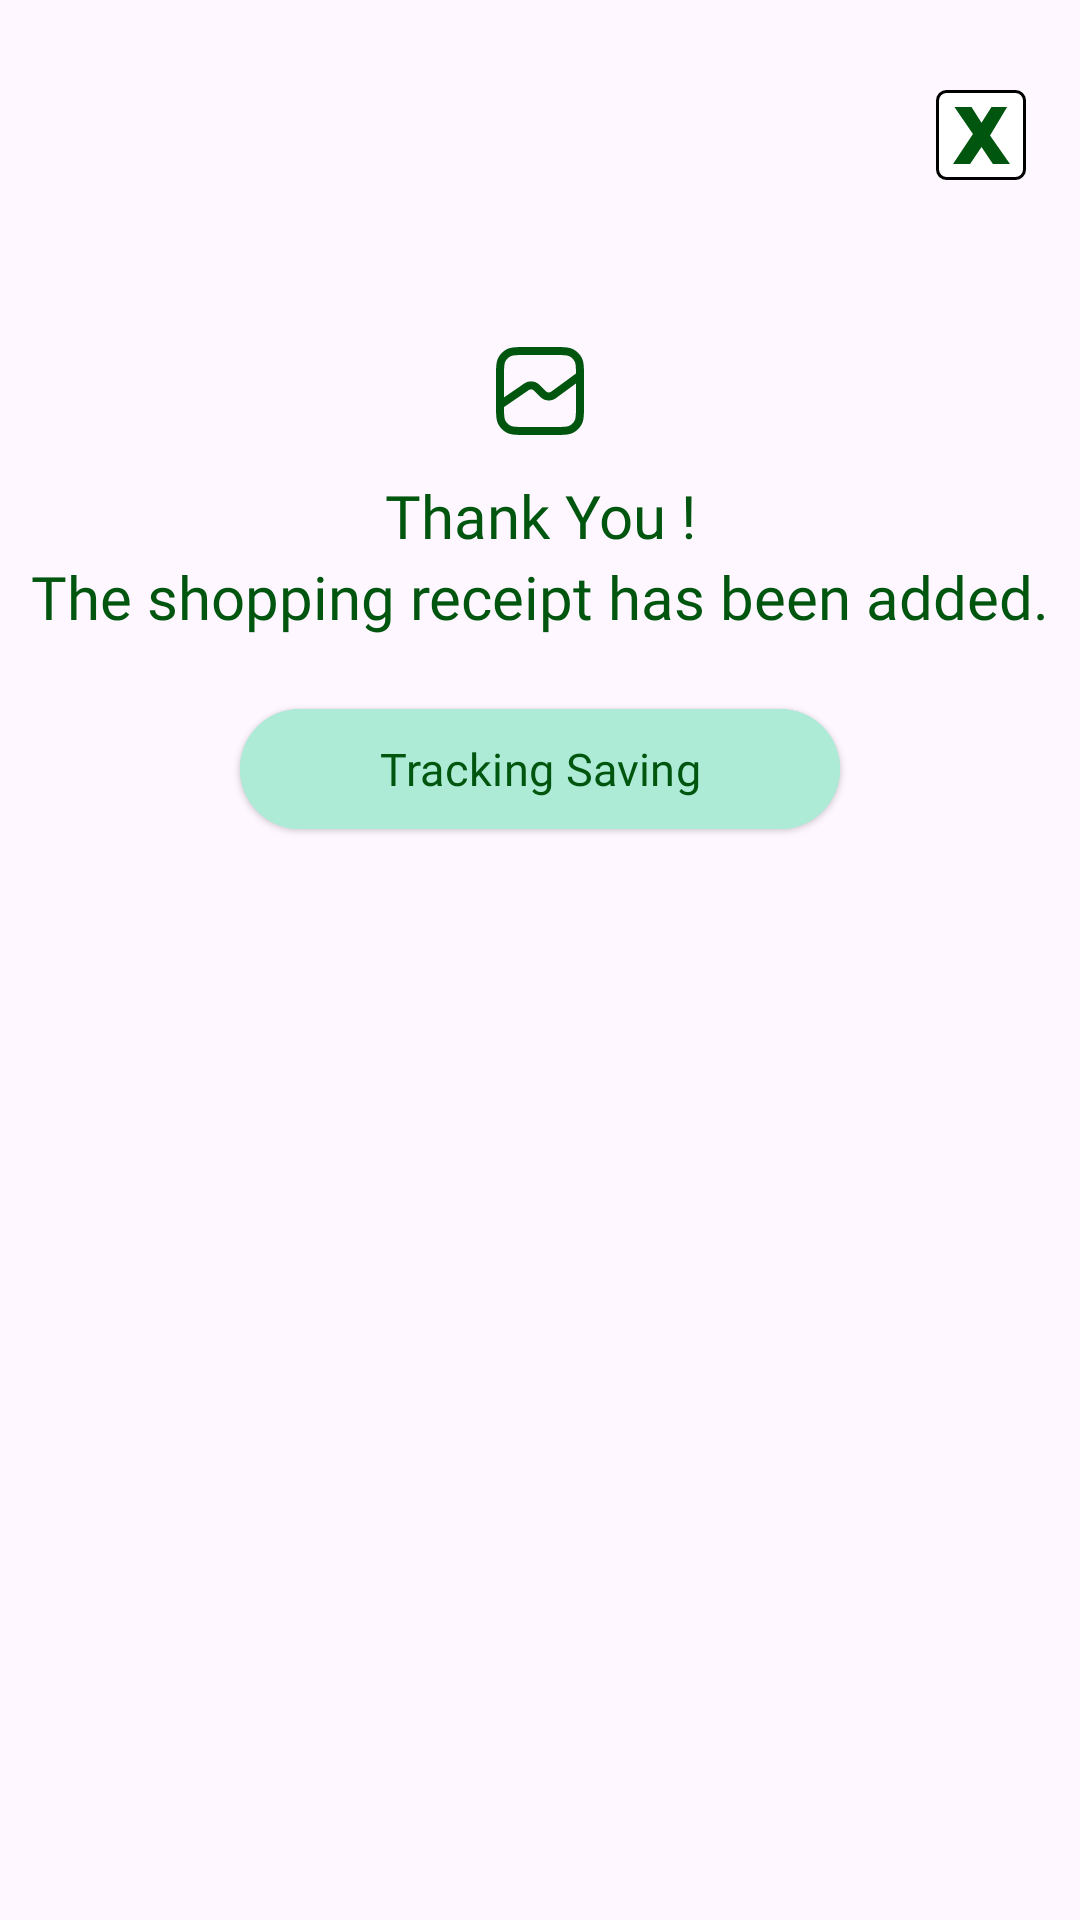

Screen size 1080 x 1920. Icon name, then its center in pixels as (x,y):
Cancel Dialog: (981,135)
ilustrasi: (540,391)
